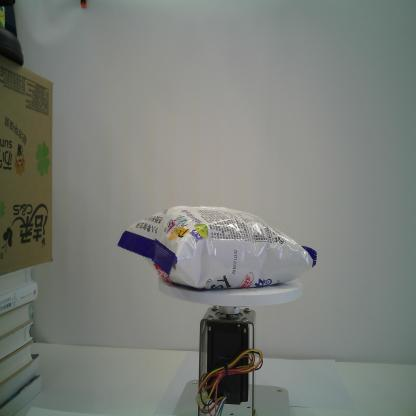Puffed Food: (116, 204, 318, 292)
